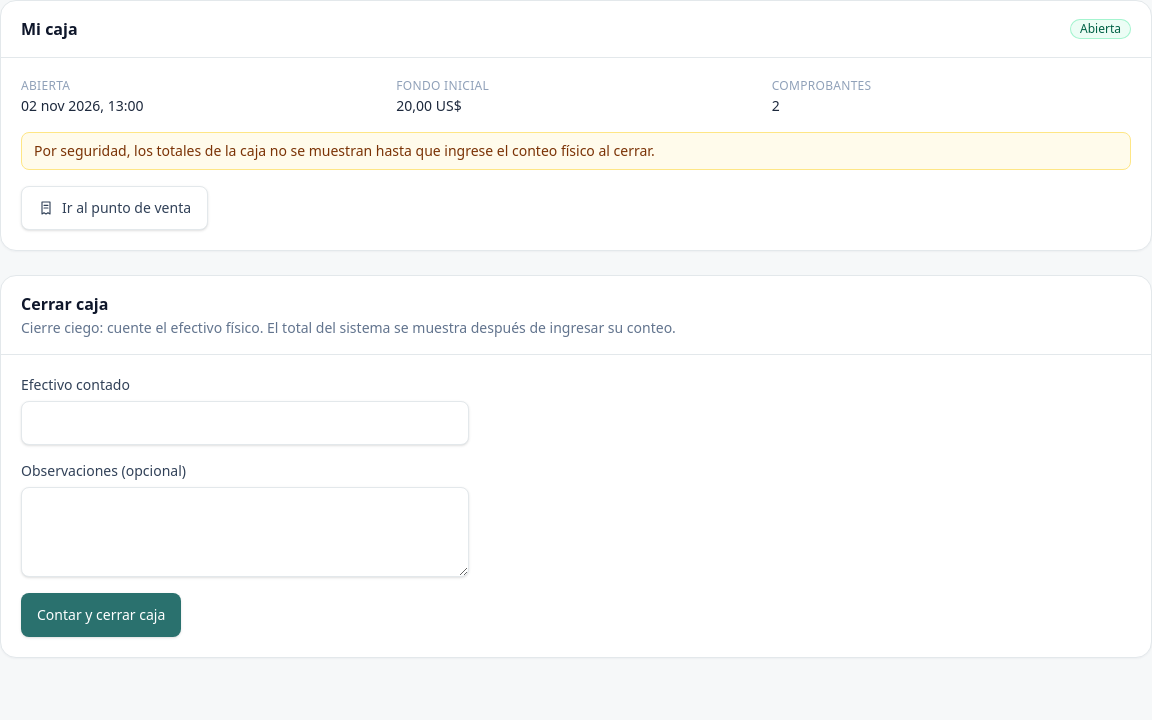
Test case: CashierView: RN-02 cierre de caja ciego › exige el conteo y recién después muestra el esperado y la diferencia
Expected: the heading "Mi caja" is shown, [21,17,78,41]
# sin contar no se envía nada
Click the button "Contar y cerrar caja": (101, 615) [21,593,181,637]
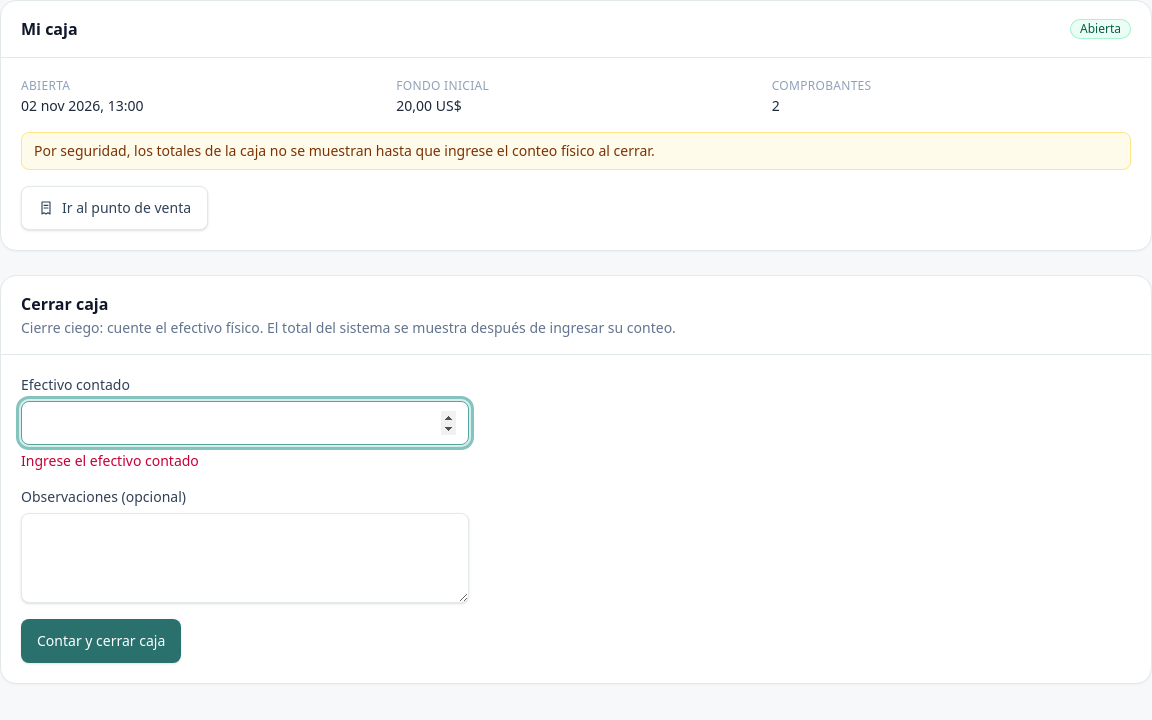
Now the text "Ingrese el efectivo contado" is shown, box [21,451,199,470]
In the number field labelled "Efectivo contado": (245, 423) [21,401,469,445], type "180"
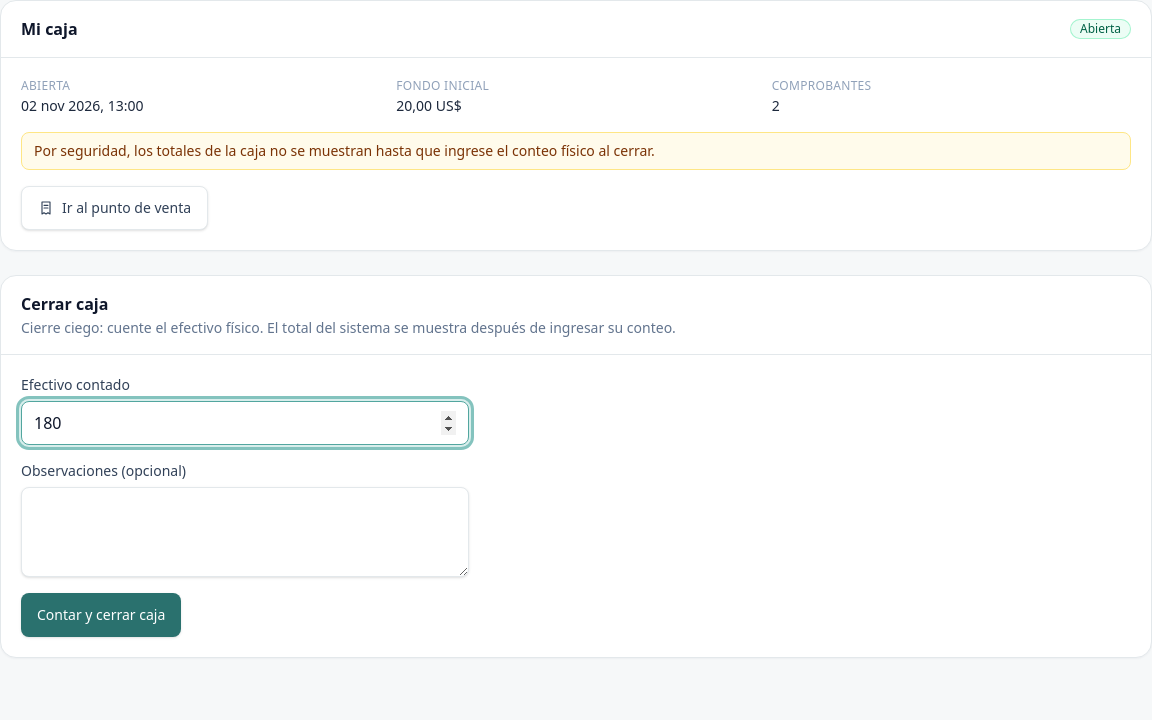
Click the button "Contar y cerrar caja": (101, 615) [21,593,181,637]
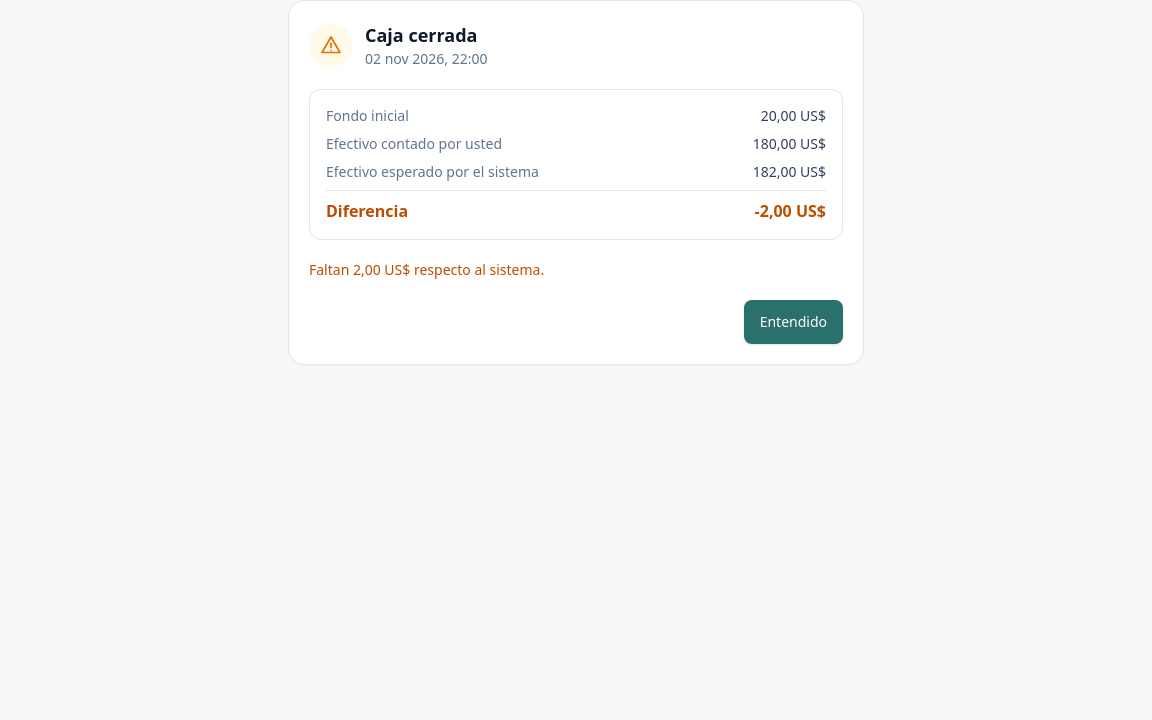
Now the heading "Caja cerrada" is shown, box [365,21,488,49]
Now the text "Efectivo esperado por el sistema" is shown, box [326,162,539,182]
Now the text "Faltan 2,00 US$ respecto al sistema." is shown, box [309,260,544,279]
